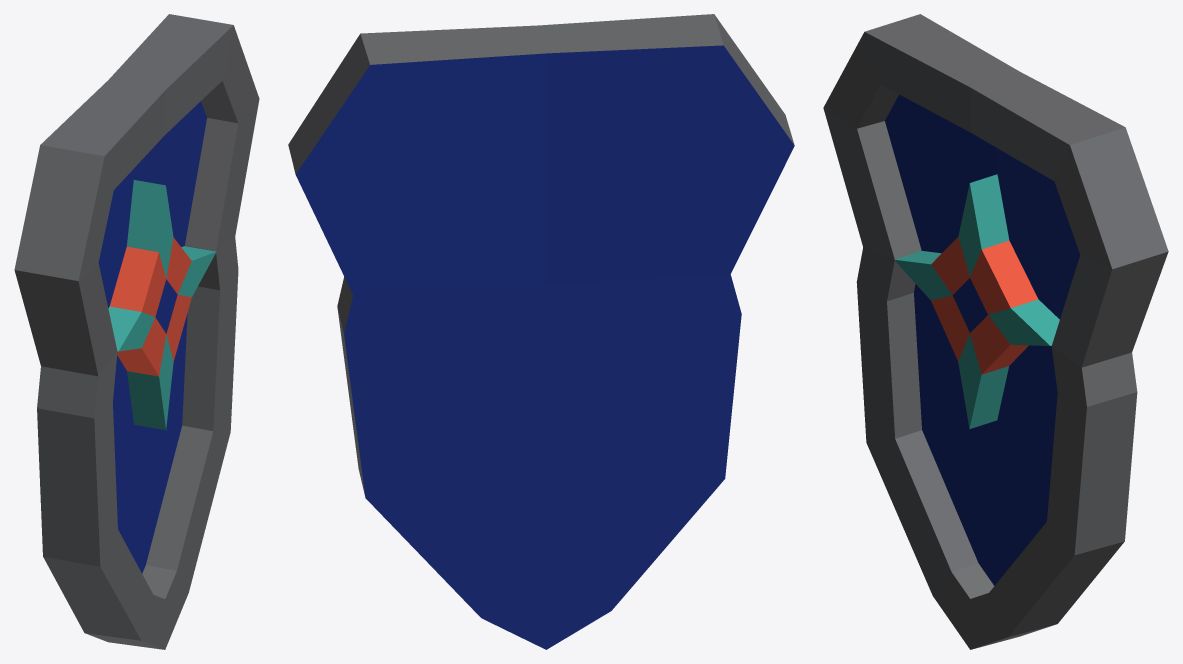
Rendered from scudoOK.fbx.
3 views of the same model, side by side, from view 1: azimuth 30°, elevation 25°; view 2: azimuth 150°, elevation 25°; view 3: azimuth 270°, elevation 25° (orthographic). The views are drawn at different scales.
Visible parts, largest first — view 1: Cube; view 2: Cube; view 3: Cube.
Boxes of the visible parts, x1,y1,x2,y2 form: Cube: (14, 14, 259, 649); Cube: (288, 14, 794, 649); Cube: (823, 14, 1168, 649).
Bounding box in the file's own units: 154 × 230 × 127.
